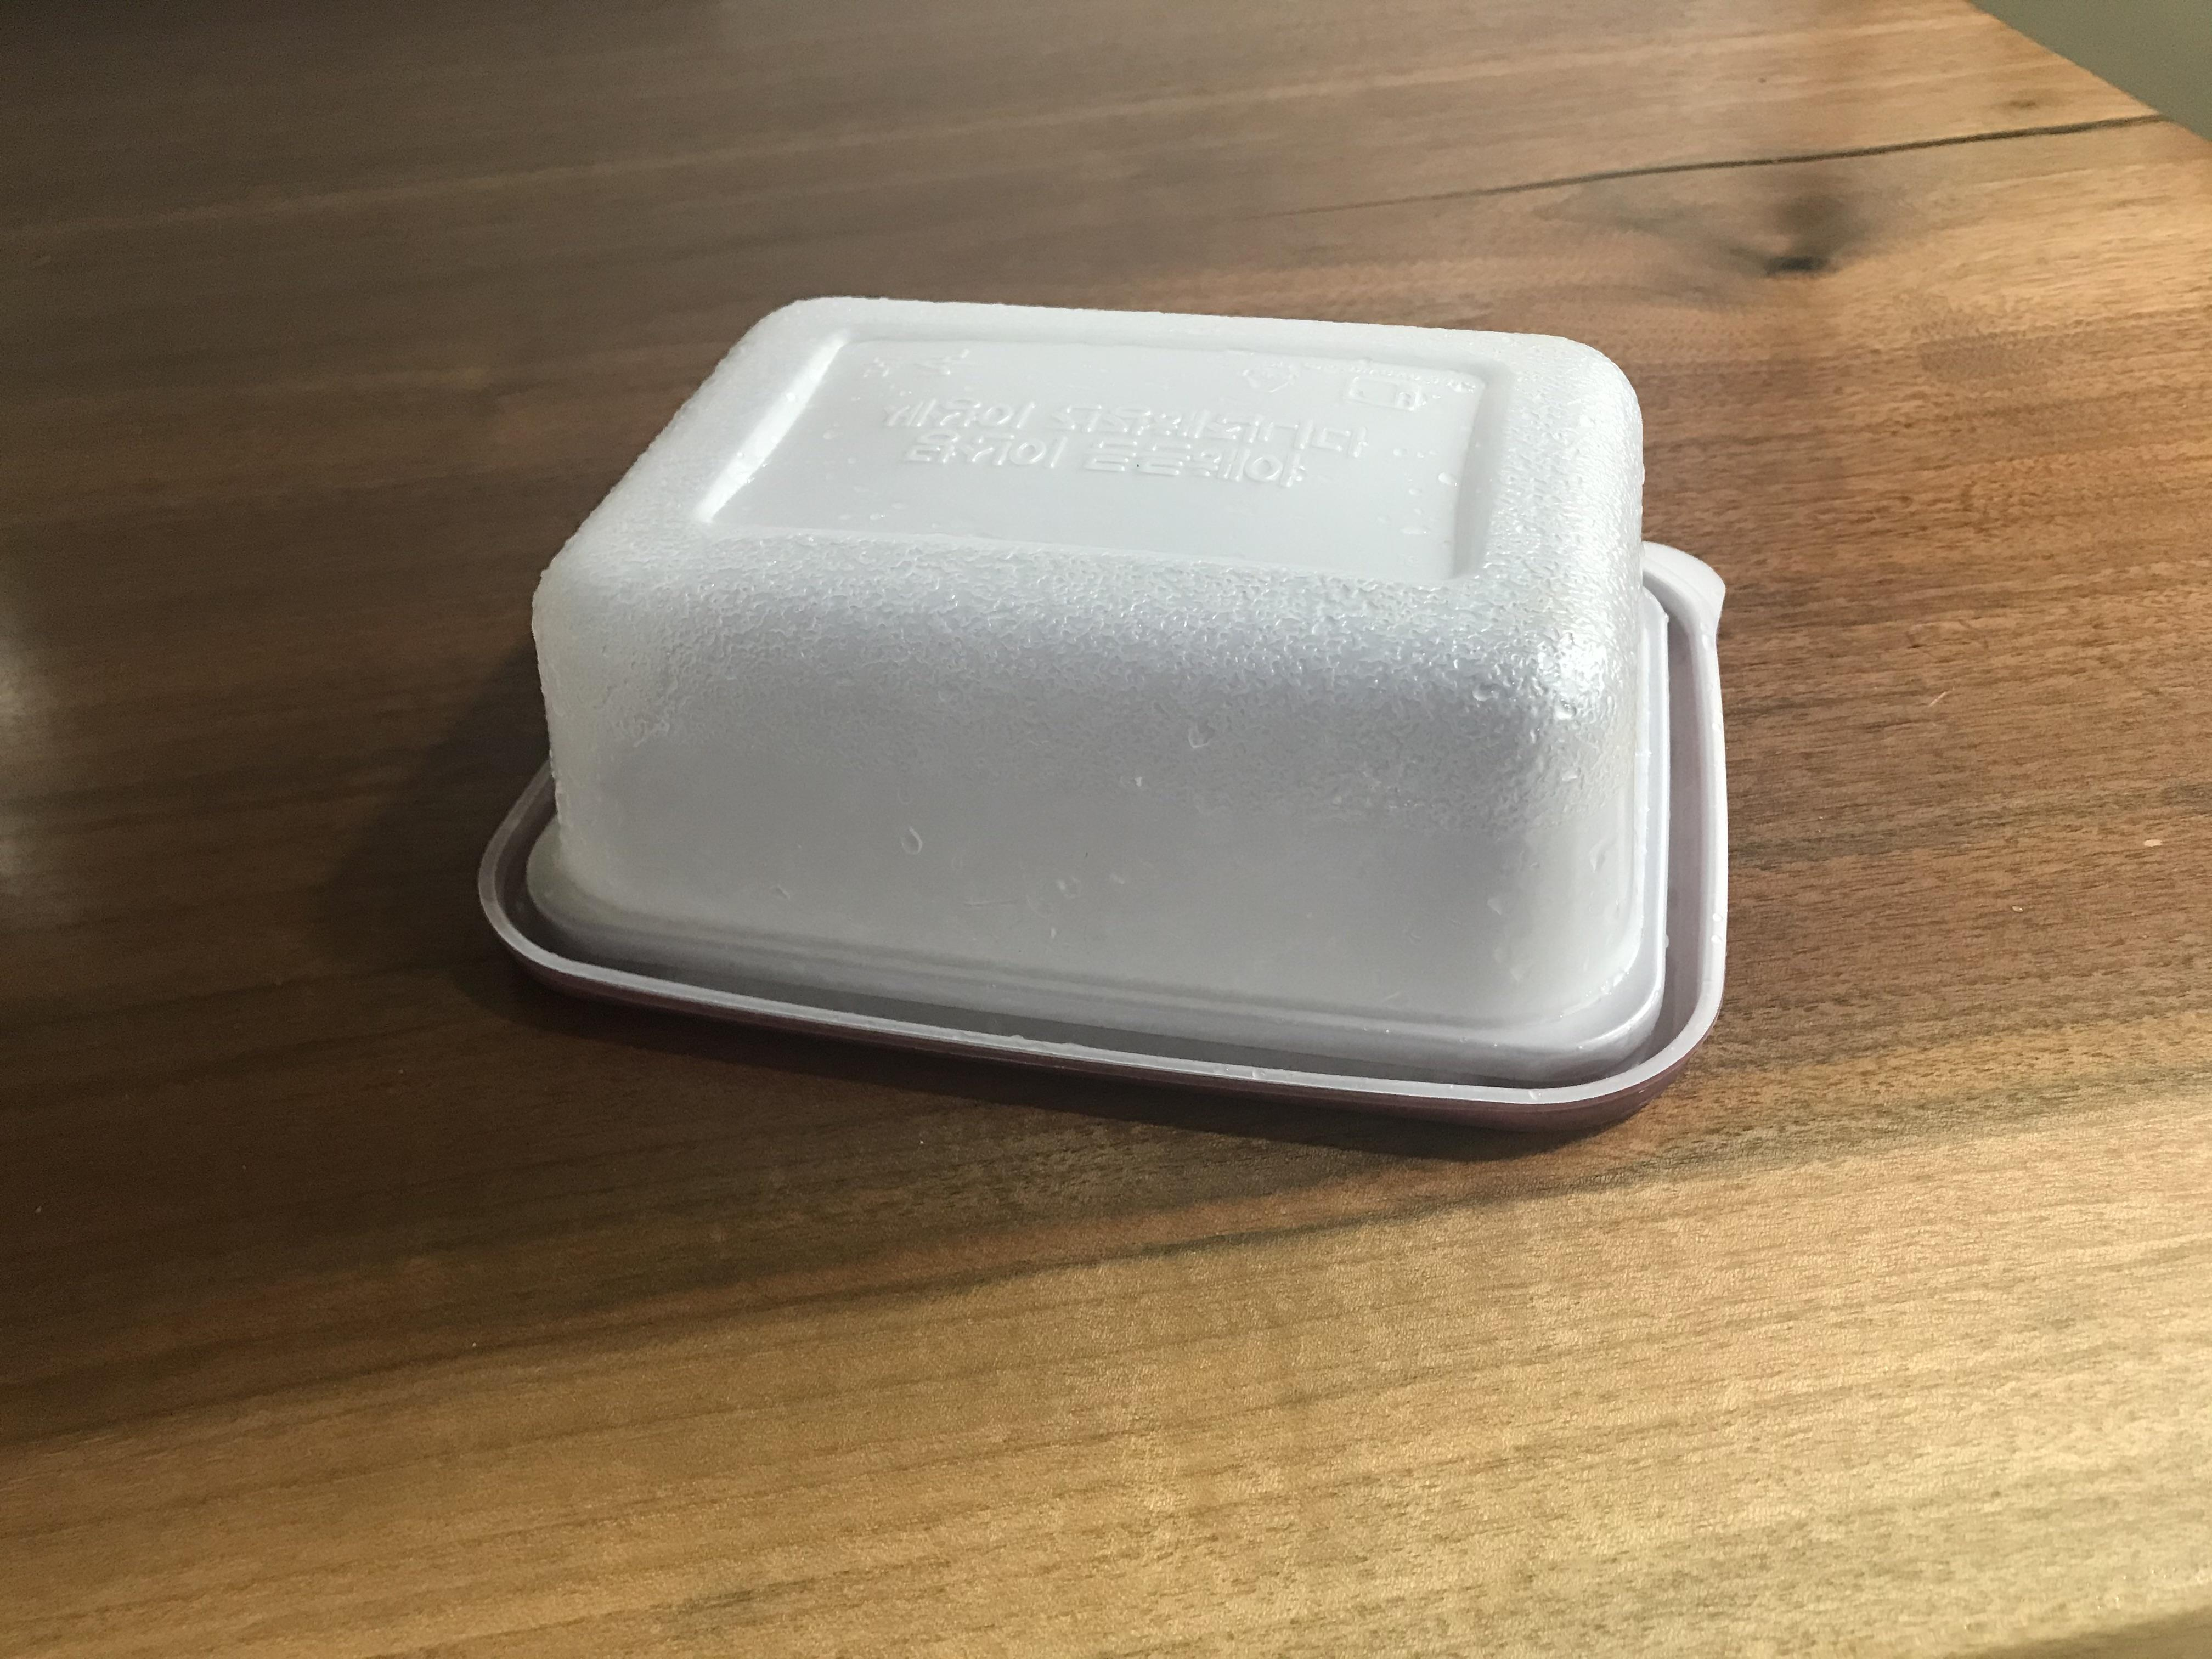bottle: (402, 232, 1824, 1150)
